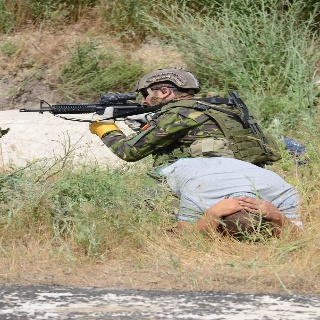rifle: (21, 89, 159, 126)
